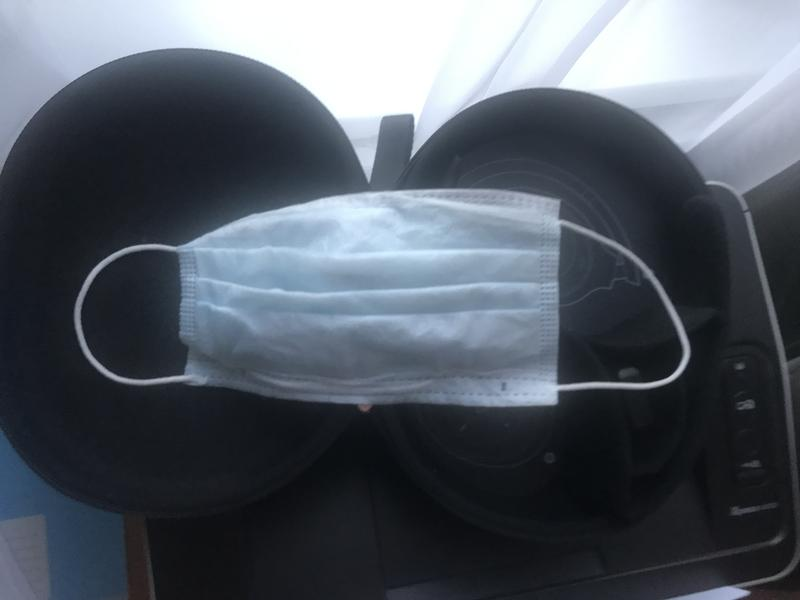medical_mask: (73, 186, 691, 408)
